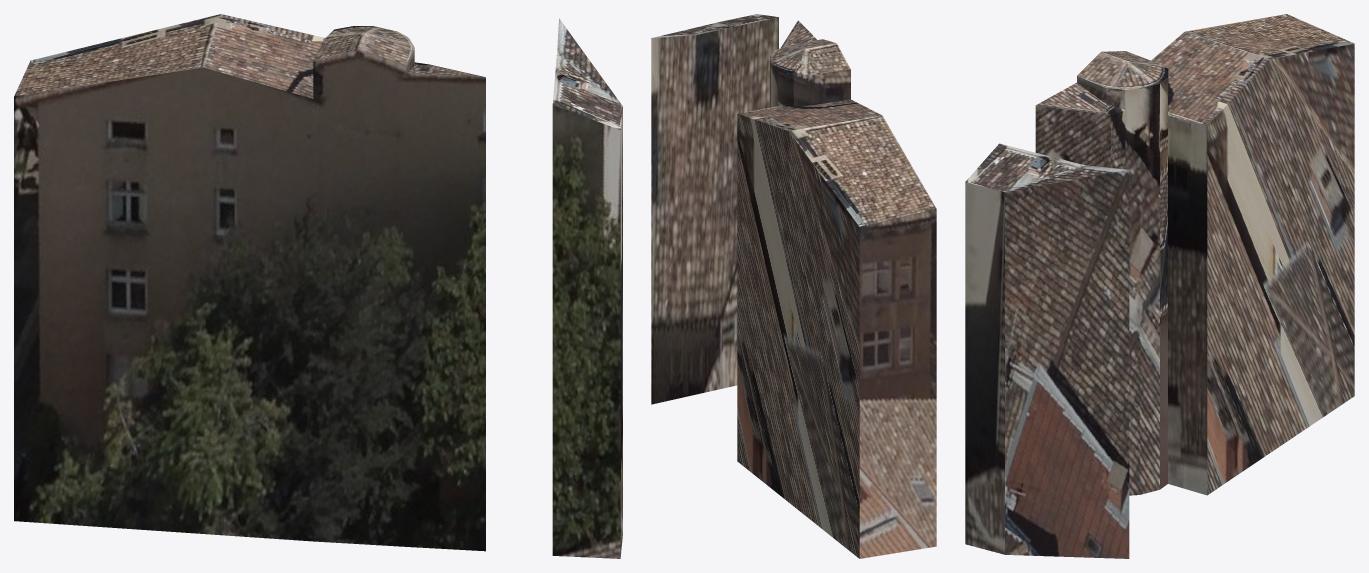
3 renders of one model, left to right at view 1: azimuth 30°, elevation 25°; view 2: azimuth 150°, elevation 25°; view 3: azimuth 270°, elevation 25°, orthographic. The views are drawn at different scales.
Visible parts, largest first — view 1: Z_UP; view 2: Z_UP; view 3: Z_UP.
Boxes of the visible parts, x1,y1,x2,y2 form: Z_UP: (14, 14, 622, 558); Z_UP: (651, 14, 936, 558); Z_UP: (965, 14, 1354, 558).
Bounding box in the file's own units: 19.19 × 20.08 × 16.96.
Materials: 2 (1 with a texture image).
